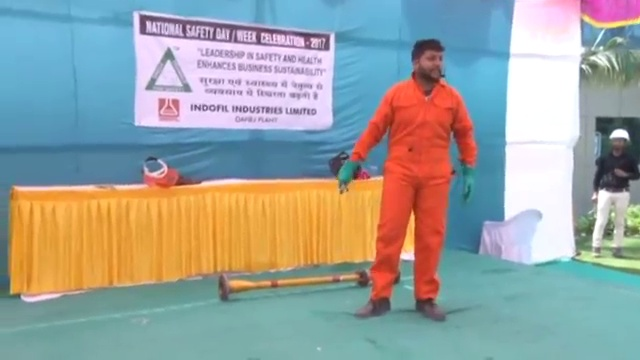helmet: (608, 126, 631, 144)
helmet_off: (408, 39, 447, 84)
helmet_on: (605, 125, 630, 157)
person: (339, 36, 476, 323), (590, 125, 639, 261)
